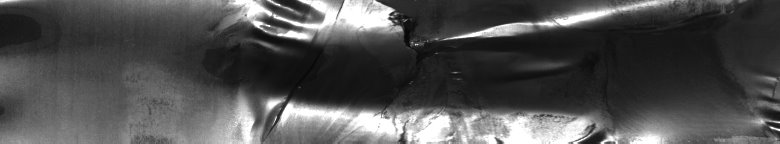ke: (212, 4, 776, 136)
